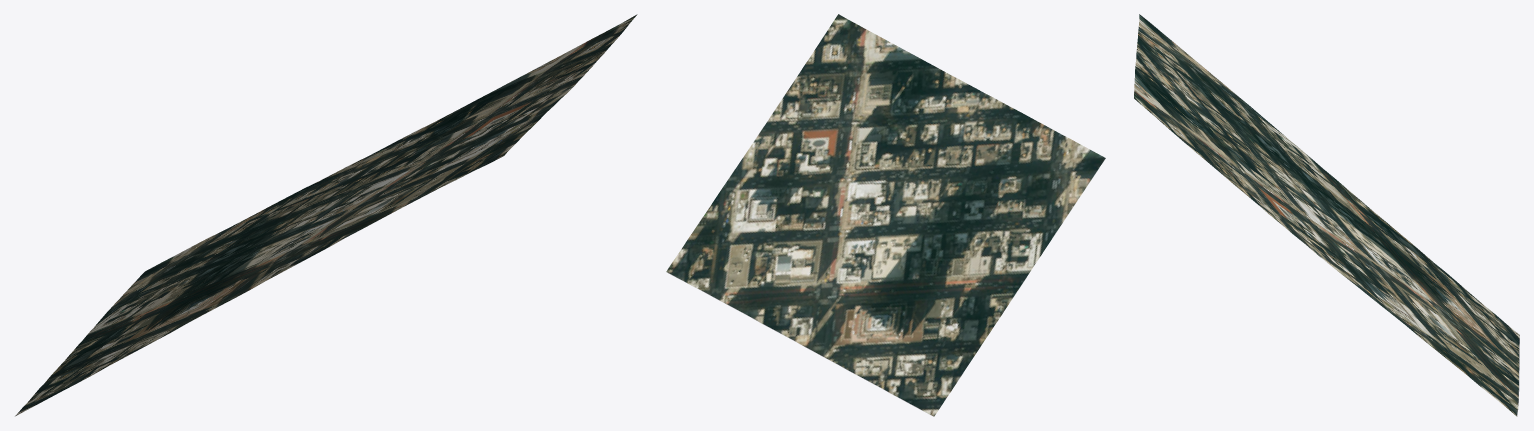
3 renders of one model, left to right at view 1: azimuth 30°, elevation 25°; view 2: azimuth 150°, elevation 25°; view 3: azimuth 270°, elevation 25°, orthographic. The views are drawn at different scales.
Bounding box in the file's own units: 530 × 411 × 356.
1 material, 1 textured.
